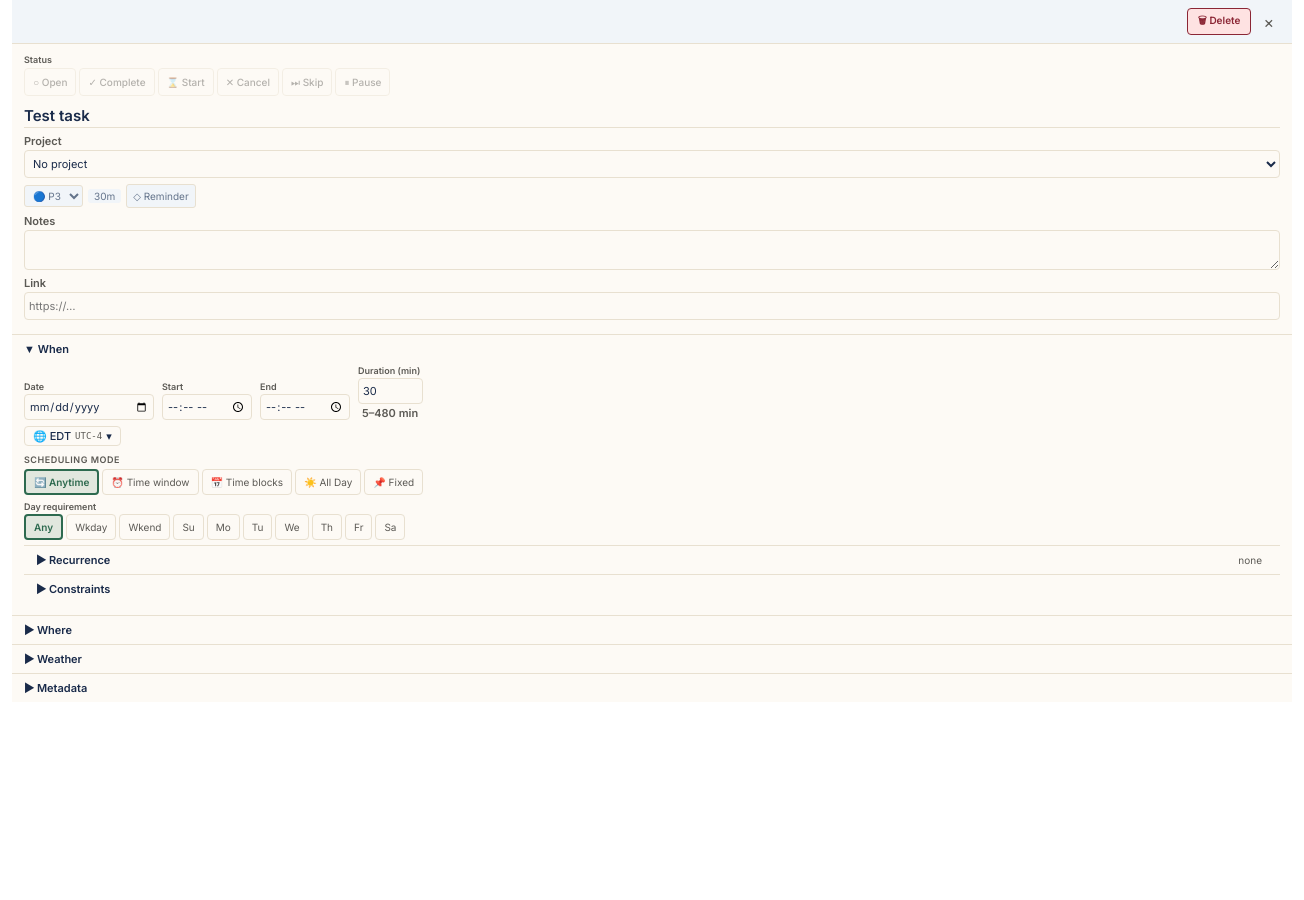
Scenario: clicking When toggle collapses the section
Click the button "▼ When" at point(53, 349), box [12,335,1292,363]
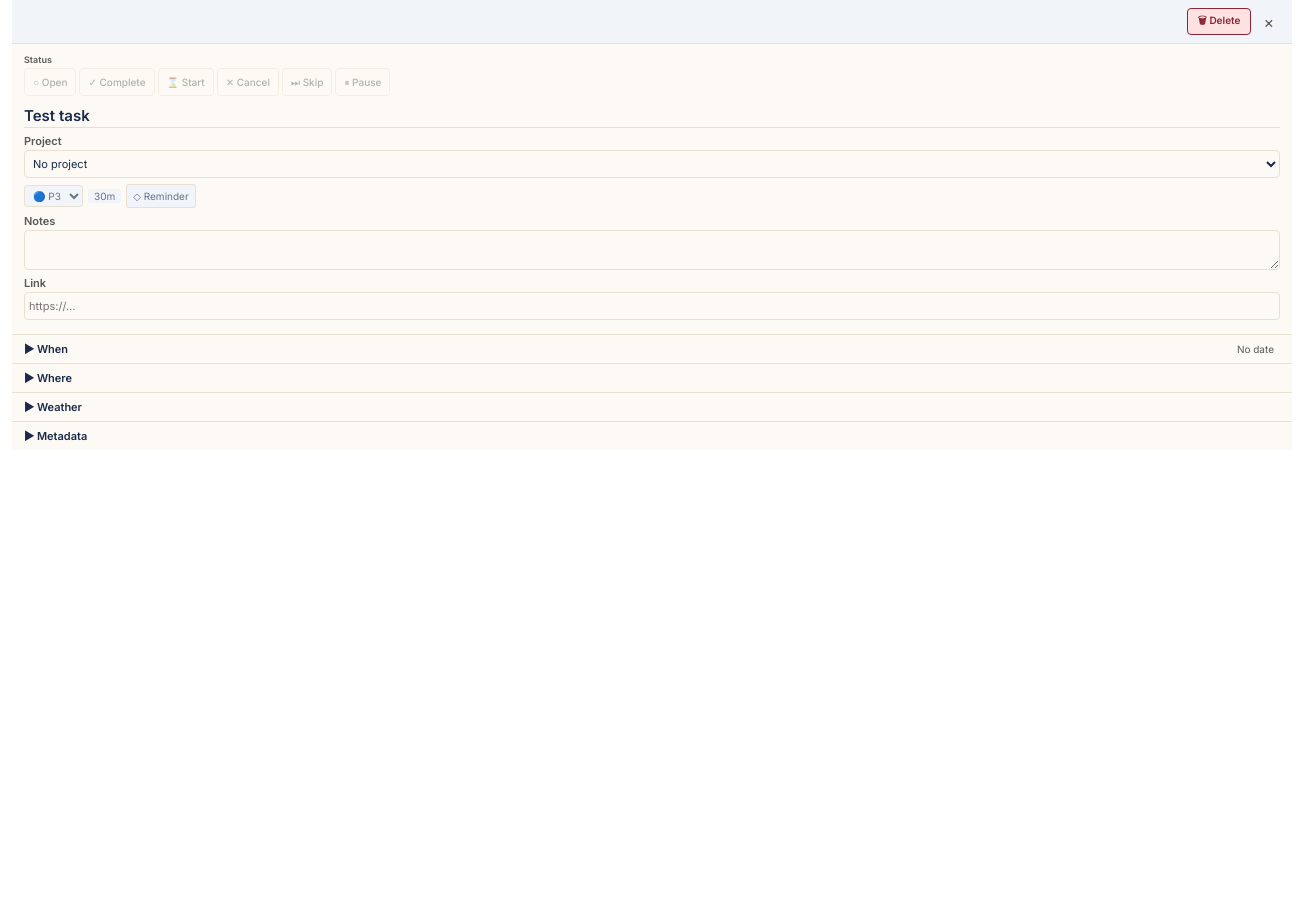
Expected: the button "▼ When" is gone
Expected: the text "▶ When" is shown, [24,342,68,356]
